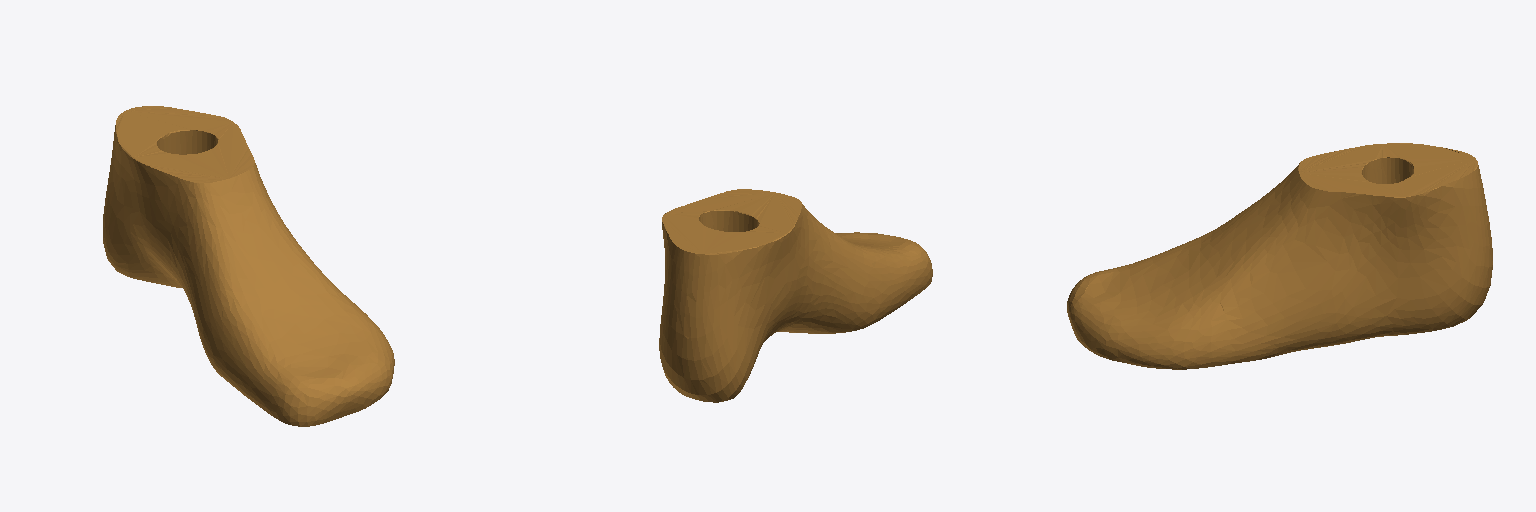
File: L_Talus.obj
3 views of the same model, side by side, from view 1: azimuth 30°, elevation 25°; view 2: azimuth 150°, elevation 25°; view 3: azimuth 270°, elevation 25° (orthographic).
Visible parts, largest first — view 1: prothese_set.001; view 2: prothese_set.001; view 3: prothese_set.001.
Part boxes in pixels (bbox=[...]): prothese_set.001: bbox=[103, 106, 394, 426]; prothese_set.001: bbox=[659, 189, 932, 402]; prothese_set.001: bbox=[1067, 143, 1492, 369].
Bounding box in the file's own units: 10.04 × 10.09 × 23.97.